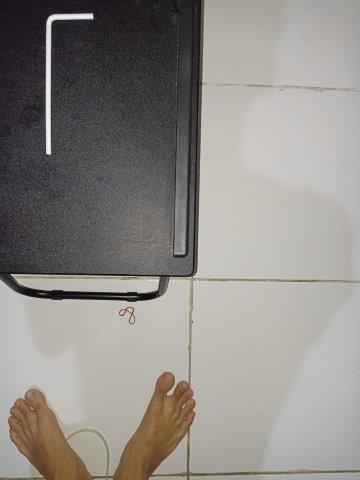karet: (118, 306, 138, 324)
sedotan: (45, 12, 93, 154)
